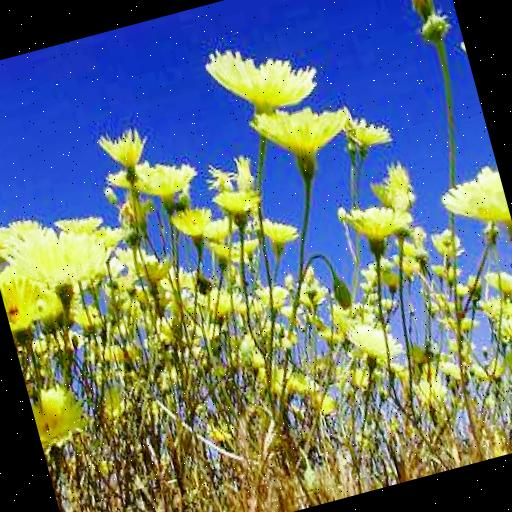dandelion: (200, 26, 320, 120), (248, 94, 354, 168), (105, 152, 199, 204), (27, 378, 91, 450), (337, 194, 412, 243), (0, 268, 56, 328), (345, 316, 402, 368), (211, 181, 265, 226), (97, 126, 150, 168), (168, 202, 218, 236), (258, 210, 296, 244)
